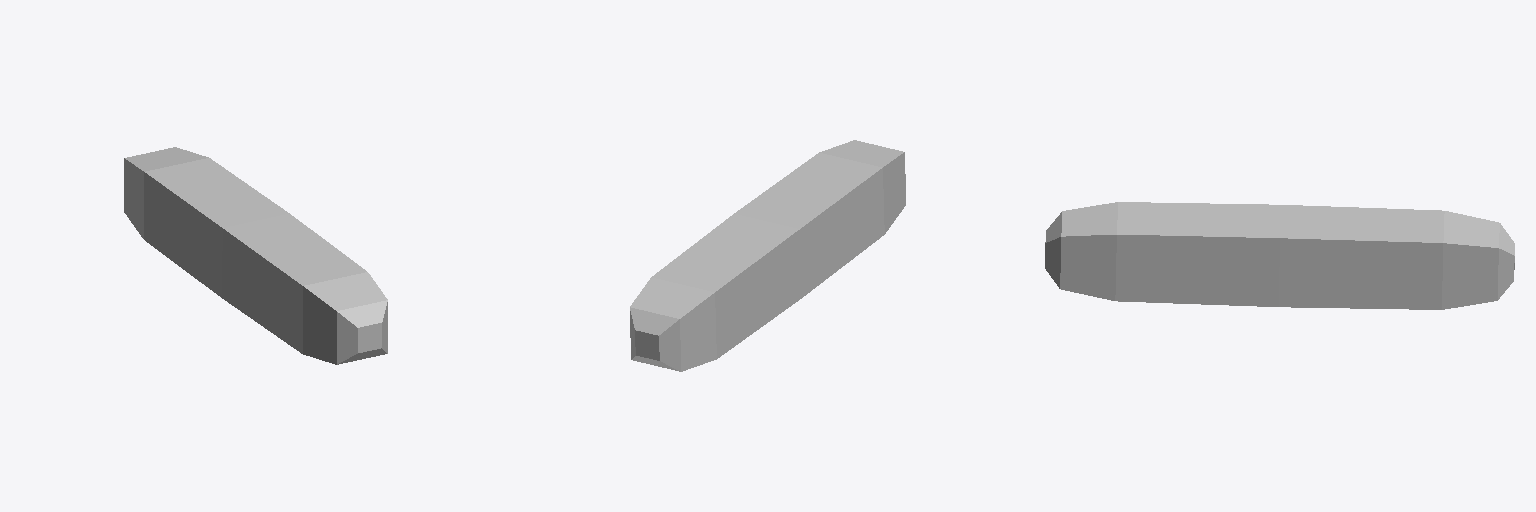
The model's file is upper_right_arm_x_joint.obj.
3 views of the same model, side by side, from view 1: azimuth 30°, elevation 25°; view 2: azimuth 150°, elevation 25°; view 3: azimuth 270°, elevation 25° (orthographic).
Parts seen in each view (by area): view 1: ../rami/model/upper_right_arm_x_joint; view 2: ../rami/model/upper_right_arm_x_joint; view 3: ../rami/model/upper_right_arm_x_joint.
Part boxes in pixels (bbox=[...]): ../rami/model/upper_right_arm_x_joint: bbox=[124, 147, 387, 364]; ../rami/model/upper_right_arm_x_joint: bbox=[630, 140, 905, 371]; ../rami/model/upper_right_arm_x_joint: bbox=[1045, 202, 1514, 309].
Size of the model in its own units: 0.0592 by 0.0605 by 0.3439.